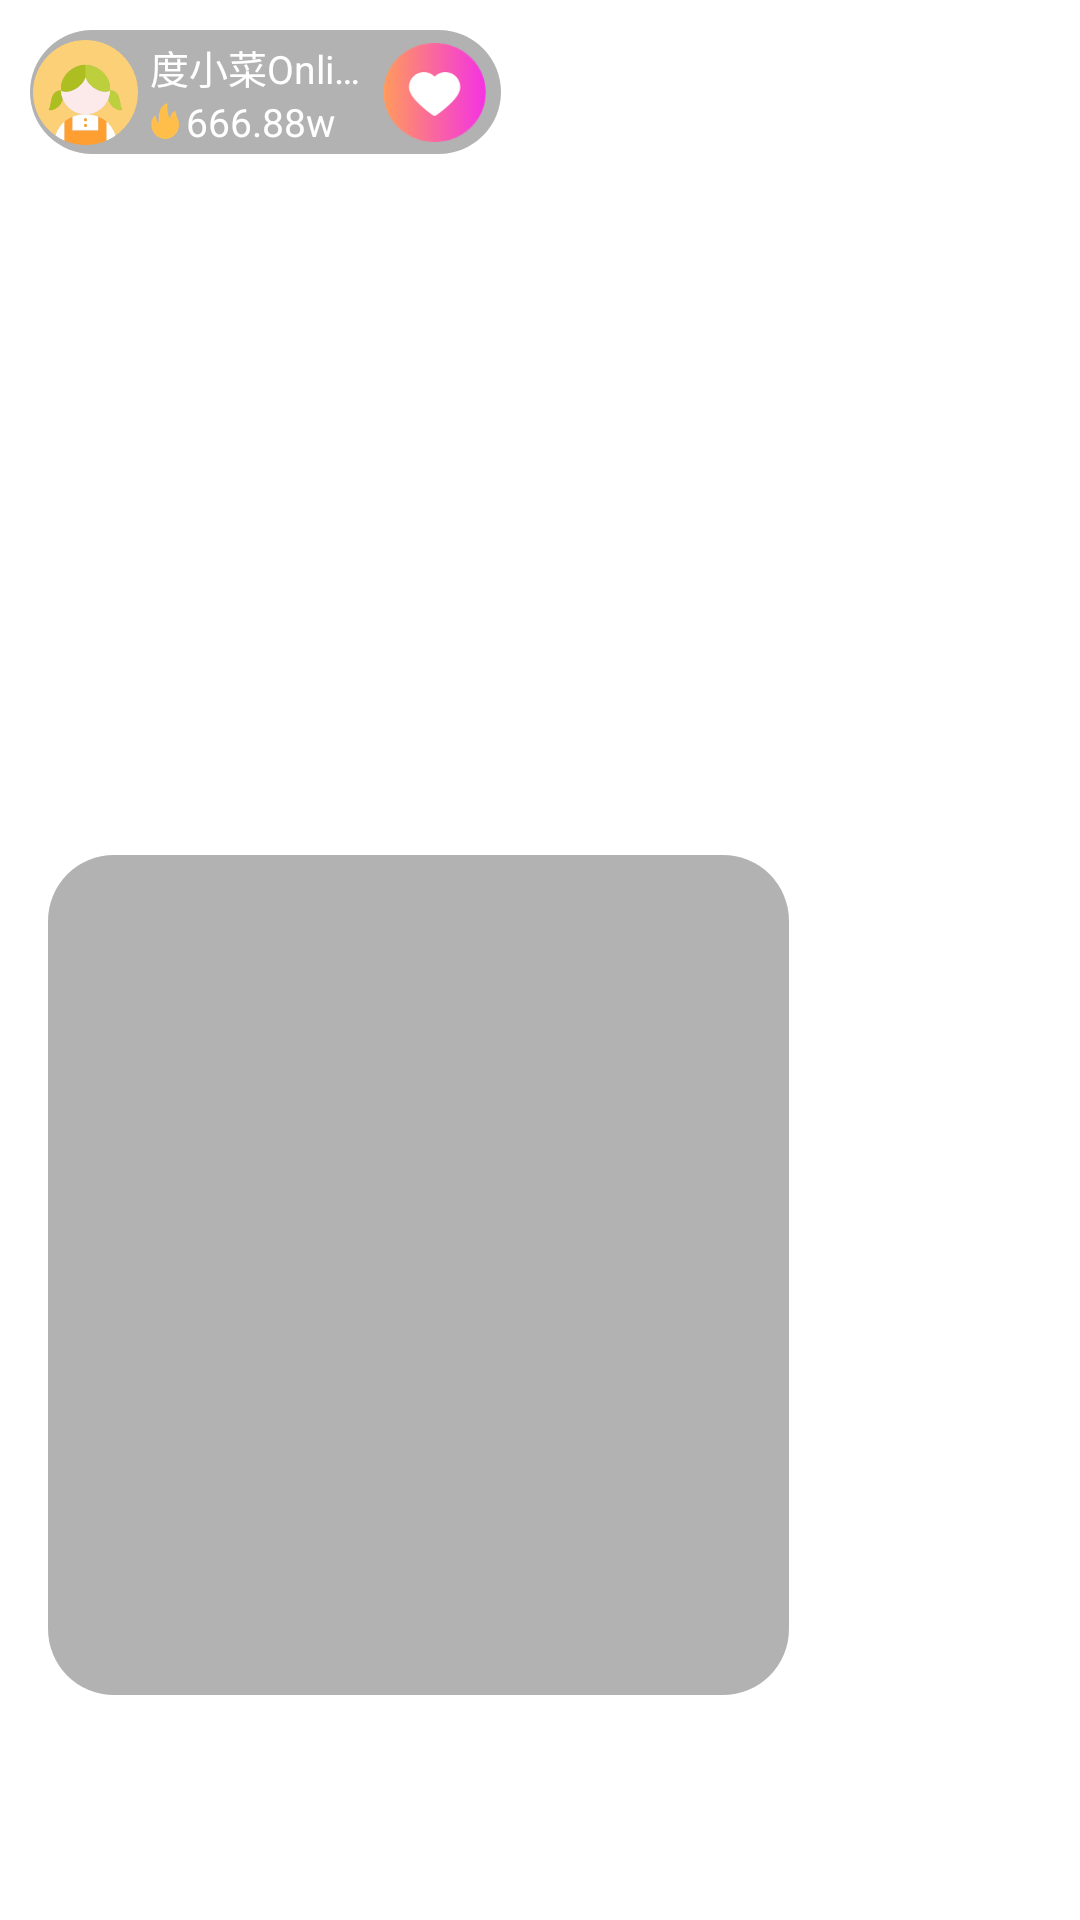

Where icons sit on this 1080w x 1920h app screen, as (x1, y1, x2, y2):
live head: (33, 40, 138, 145)
live room anchor follow: (383, 43, 486, 142)
